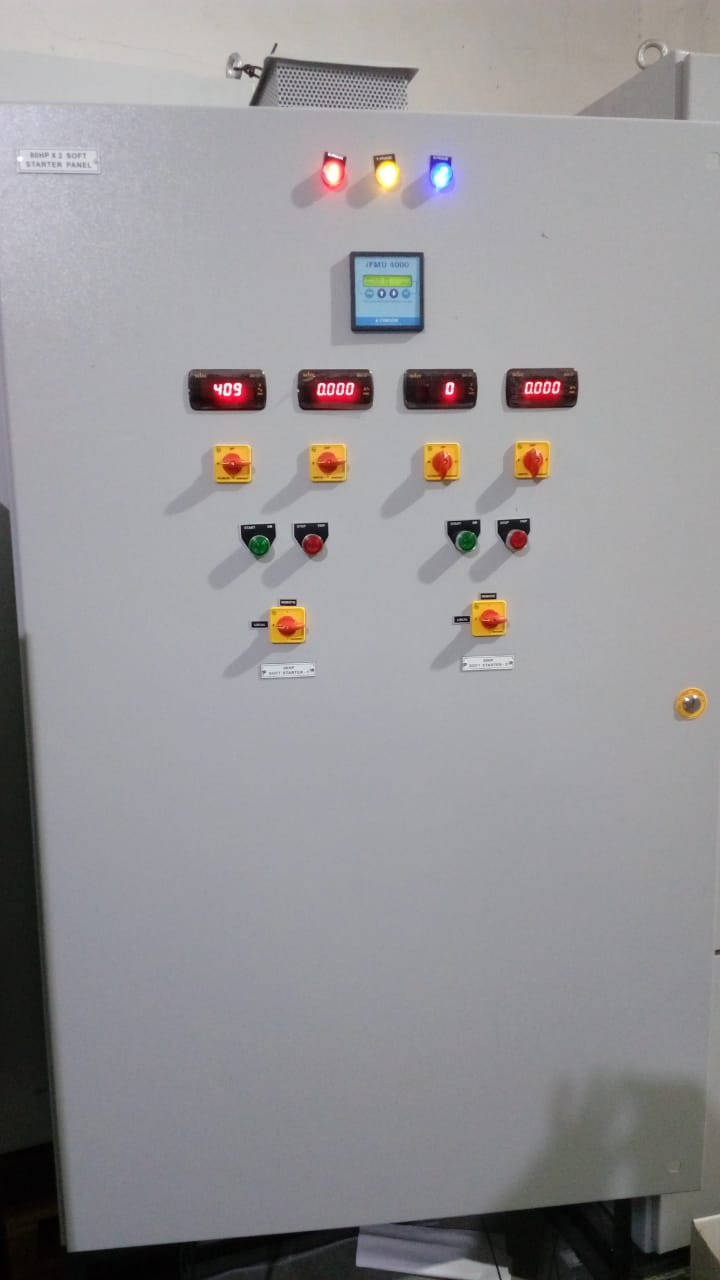Green_Led_Off: (240, 527, 281, 567), (447, 523, 485, 566)
Red_Led_Off: (495, 517, 536, 567), (297, 525, 333, 563)
Red_Led_On: (313, 149, 354, 189)
Yellow_Led_On: (425, 156, 465, 202), (368, 155, 407, 191)
